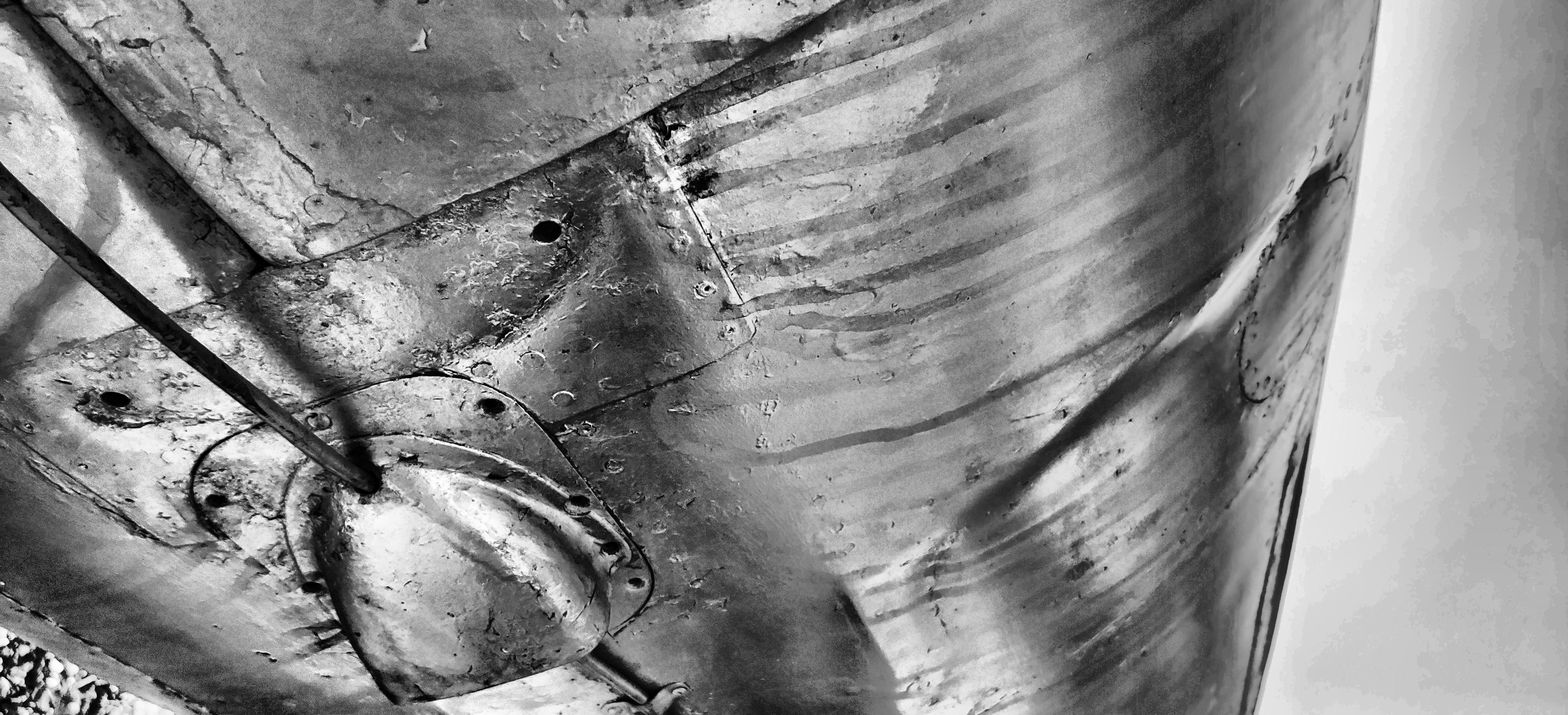dent: (956, 316, 1193, 532), (1189, 162, 1333, 336), (387, 467, 530, 590), (117, 167, 231, 299), (834, 572, 909, 687)
missing-head: (529, 217, 562, 246), (477, 395, 503, 417), (100, 391, 132, 408), (567, 491, 591, 512), (601, 538, 621, 558), (206, 493, 230, 508), (627, 574, 647, 591), (399, 447, 419, 464), (303, 580, 327, 593), (487, 469, 507, 482)
paint-peel-off: (495, 293, 547, 346), (644, 107, 689, 146), (687, 166, 719, 199)
